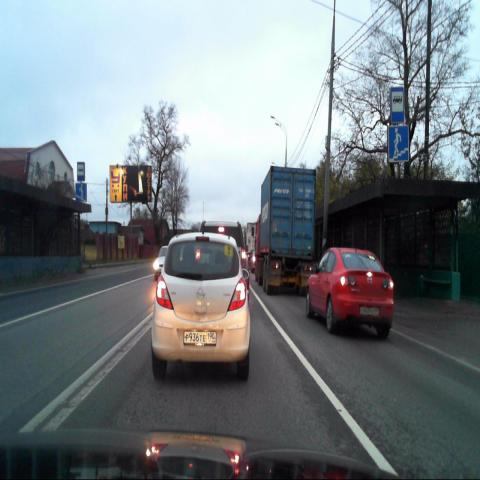6_6: (387, 127, 409, 163)
